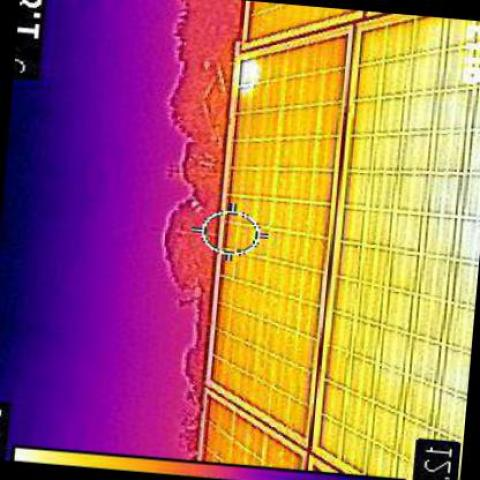fault: (241, 65, 260, 91)
